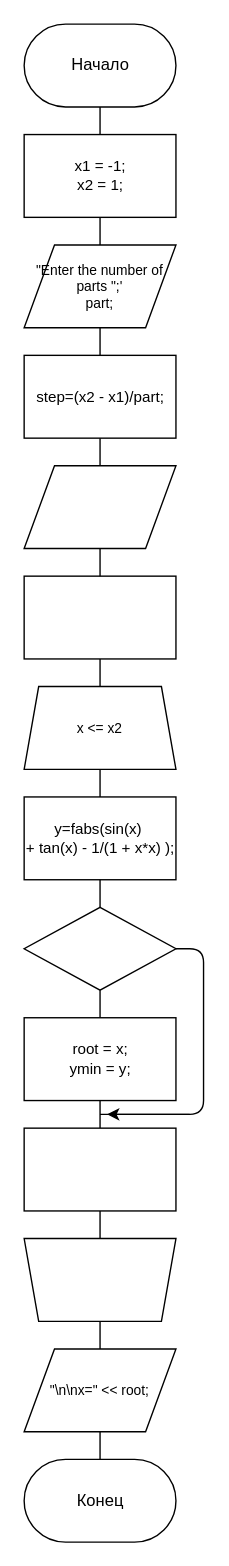
This 229x1566 diagram has some shape labels left out. The box of each missing label's shape, as (x1, y1, x2, y2) in pixels:
"Step = " << step;: (23, 464, 176, 549)
root=x=x1; ymin=fabs(sin(x) + tan(x) - 1/(1 + x*x) );: (23, 575, 176, 659)
x += step;: (23, 1127, 176, 1211)
y < ymin: (23, 906, 176, 990)
